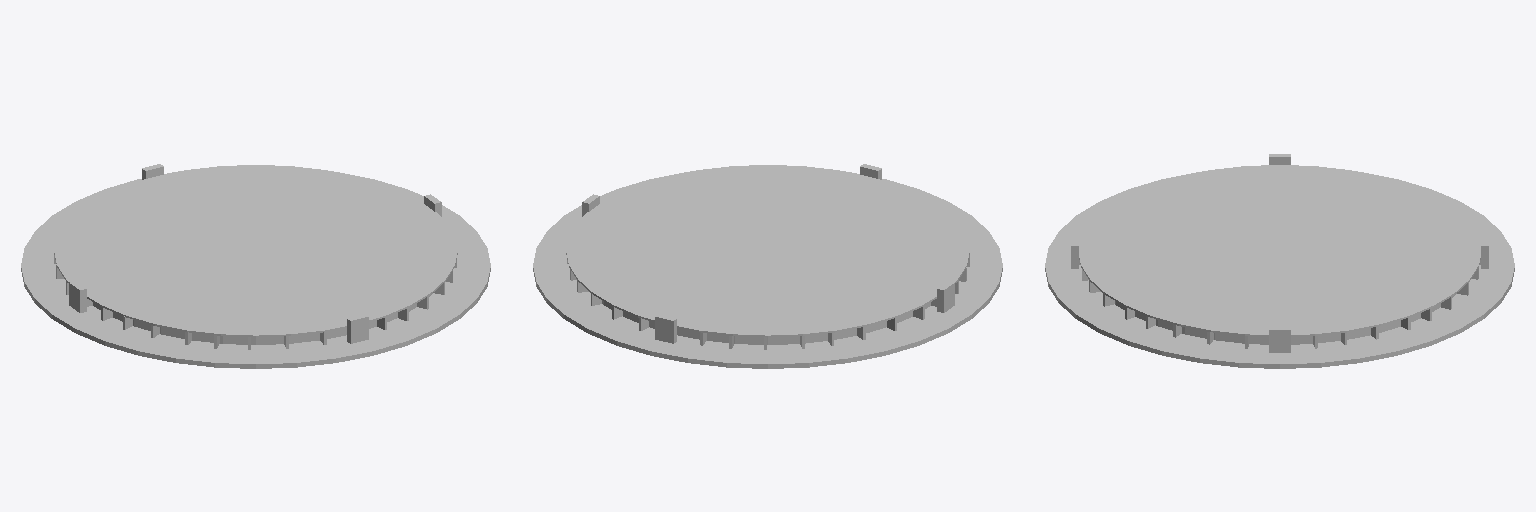
3 views of the same model, side by side, from view 1: azimuth 30°, elevation 25°; view 2: azimuth 150°, elevation 25°; view 3: azimuth 270°, elevation 25° (orthographic).
Visible parts, largest first — view 1: ROUNDA_V2LED24W_NW_W; view 2: ROUNDA_V2LED24W_NW_W; view 3: ROUNDA_V2LED24W_NW_W.
Part boxes in pixels (x1,y1,x2,y2): ROUNDA_V2LED24W_NW_W: (21,164,490,368); ROUNDA_V2LED24W_NW_W: (533,164,1002,368); ROUNDA_V2LED24W_NW_W: (1045,154,1514,368).
Bounding box in the file's own units: 2960 × 191 × 2960.